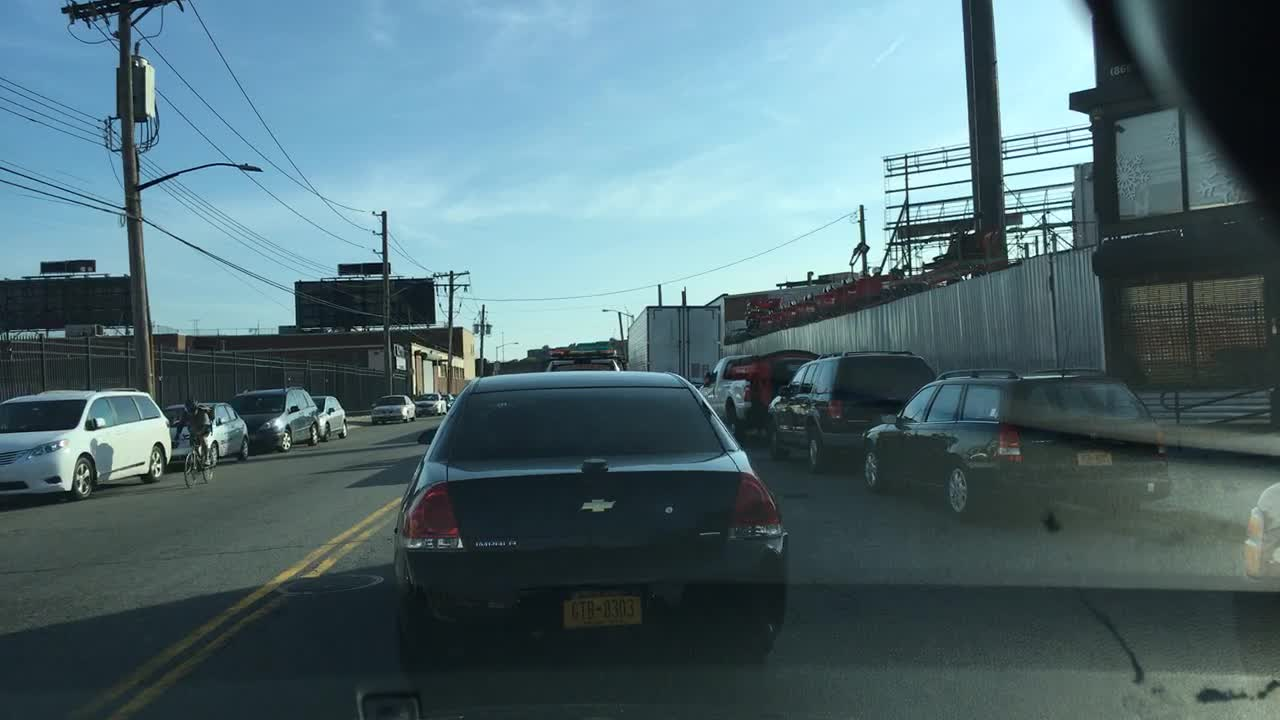bike: (175, 430, 214, 489)
car: (375, 368, 787, 673), (858, 366, 1171, 519), (757, 348, 934, 471), (0, 386, 170, 499), (697, 356, 791, 446), (228, 385, 320, 451), (163, 401, 248, 467), (1244, 476, 1279, 596), (544, 346, 626, 373), (311, 395, 348, 441), (368, 393, 414, 421), (414, 391, 446, 419), (441, 391, 454, 404)
rider: (165, 395, 214, 471)
truck: (620, 301, 719, 386)
